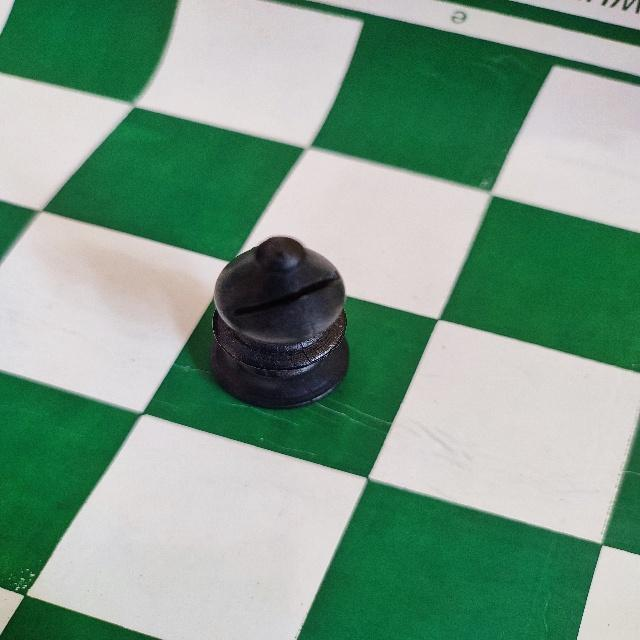Bishop: (205, 234, 352, 413)
